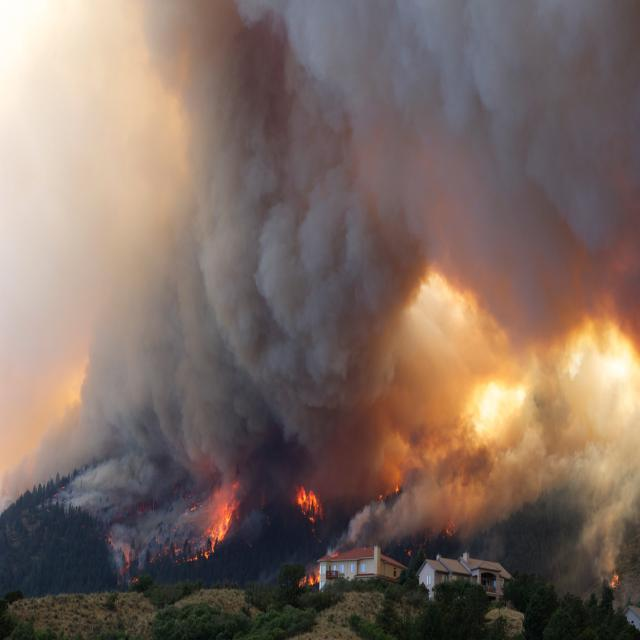Fire: (110, 484, 458, 590)
Smoke: (0, 0, 640, 524)
